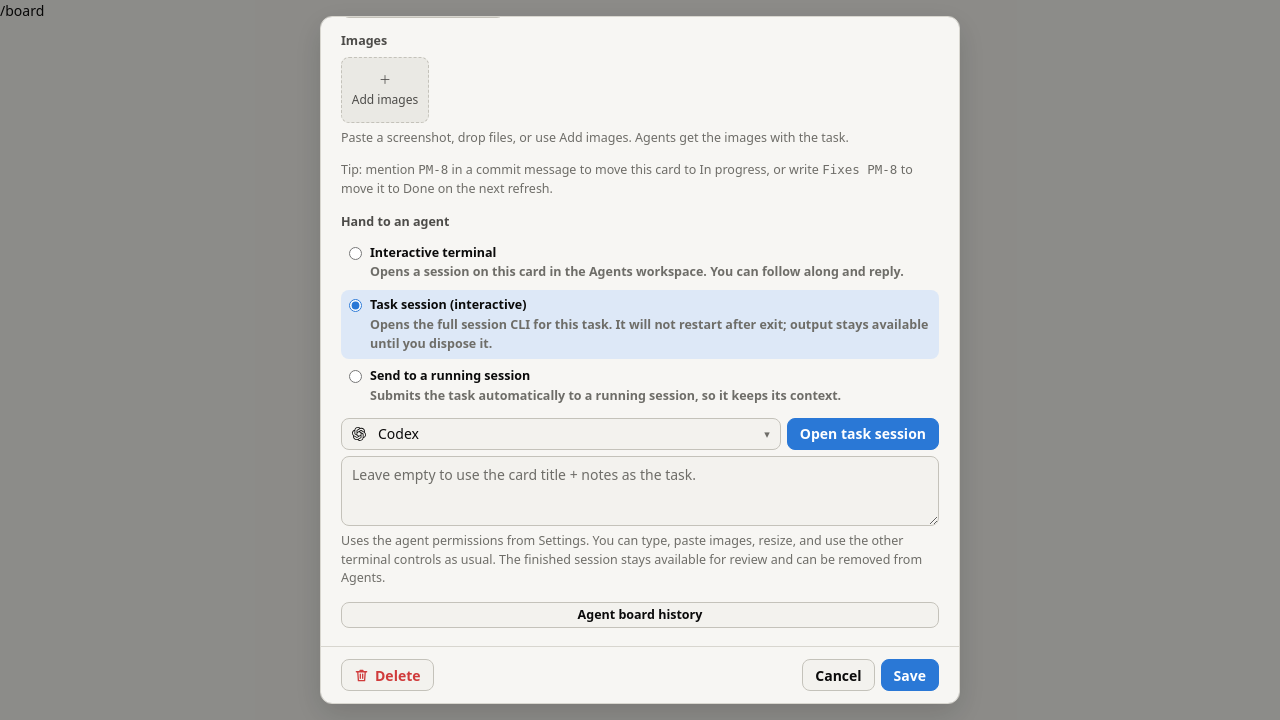
Test: remembers the CLI chosen to hand a card to (PM-8)
(page scrolled)
Click the radio button labelled "Send to a running session".
click(356, 377)  # box [349, 370, 362, 383]
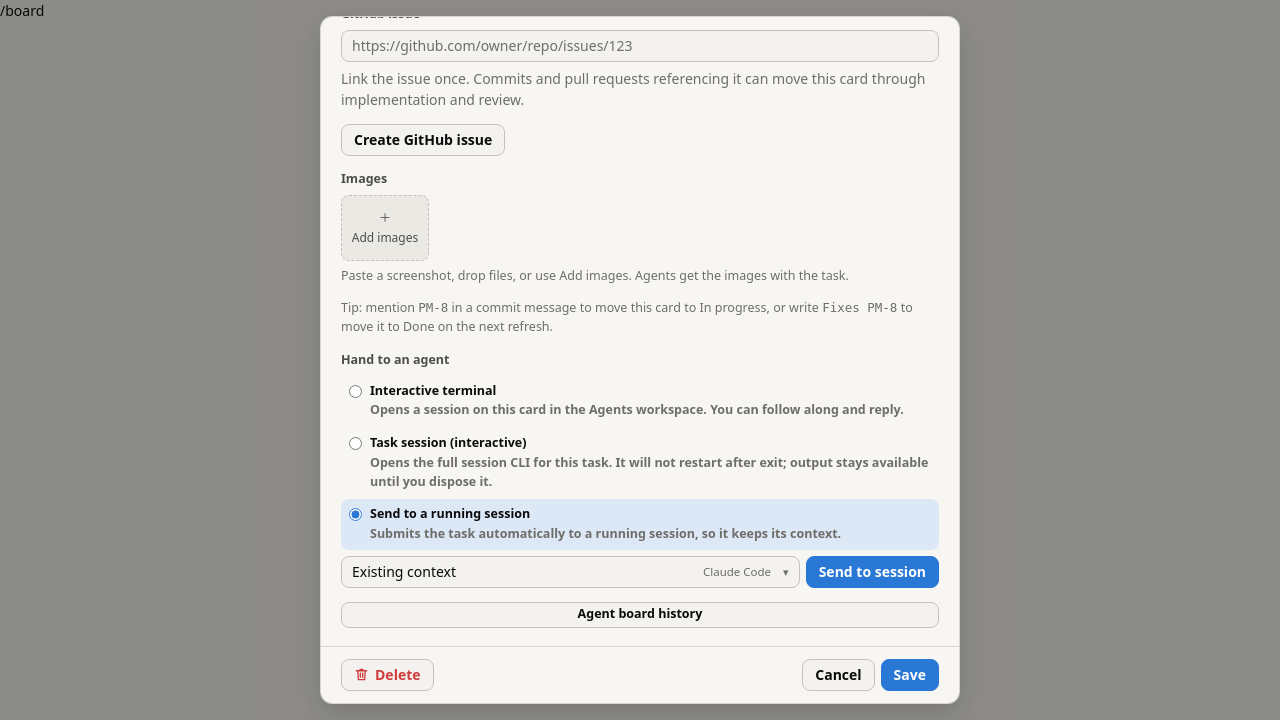
Click the radio button labelled "Task session".
click(356, 444)  # box [349, 437, 362, 450]
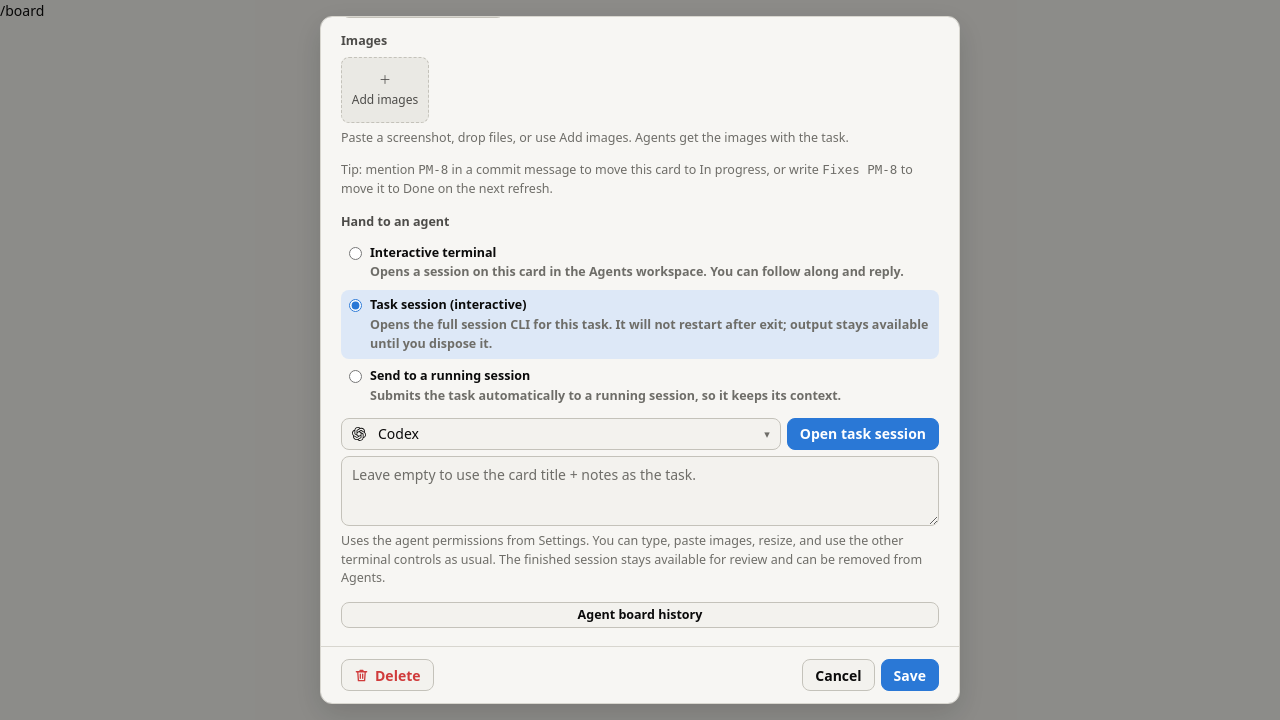
Expected: the button with aria-label "Agent" shows "Codex", [341, 418, 781, 450]
